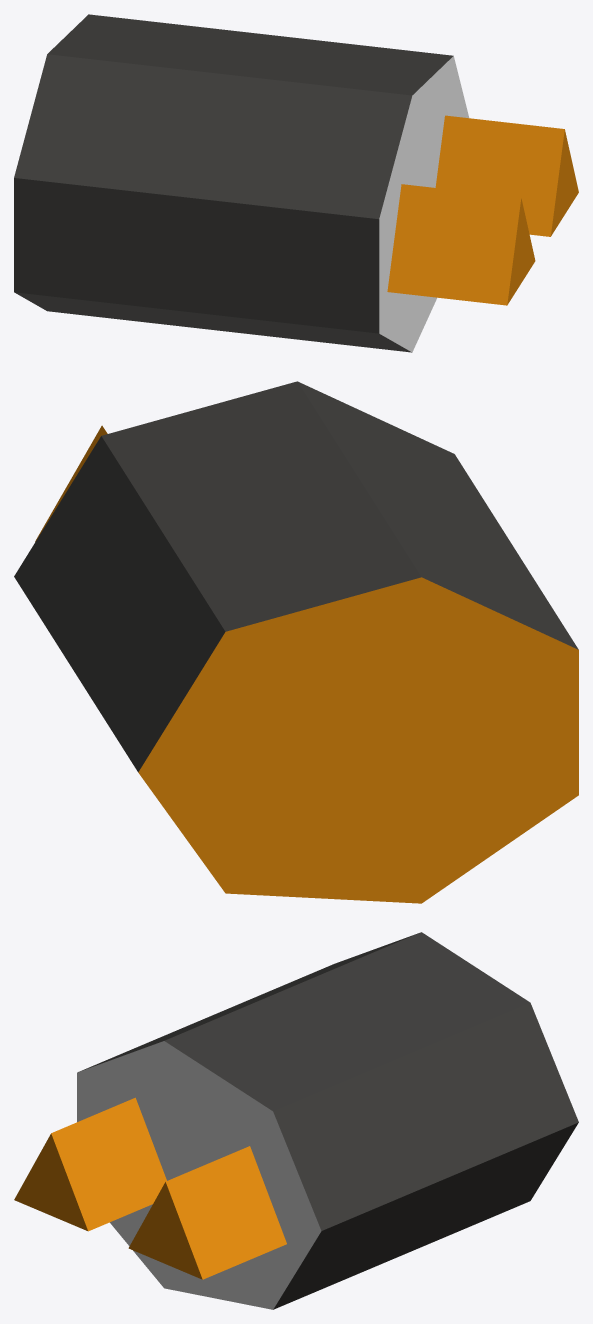
The model's file is stack-capacitor.glb.
The picture shows the model from 3 angles, top to bottom: view 1: azimuth 30°, elevation 25°; view 2: azimuth 150°, elevation 25°; view 3: azimuth 270°, elevation 25°; orthographic projection. The views are drawn at different scales.
Parts seen in each view (by area): view 1: Cylinder.011; view 2: Cylinder.011; view 3: Cylinder.011.
Part boxes in pixels (left/top/right/bottom): Cylinder.011: left=14, top=14, right=578, bottom=352; Cylinder.011: left=14, top=381, right=578, bottom=903; Cylinder.011: left=14, top=932, right=578, bottom=1309.
Size of the model in its own units: 4.78 by 2.36 by 4.89.
Materials: 1 (1 with a texture image).
